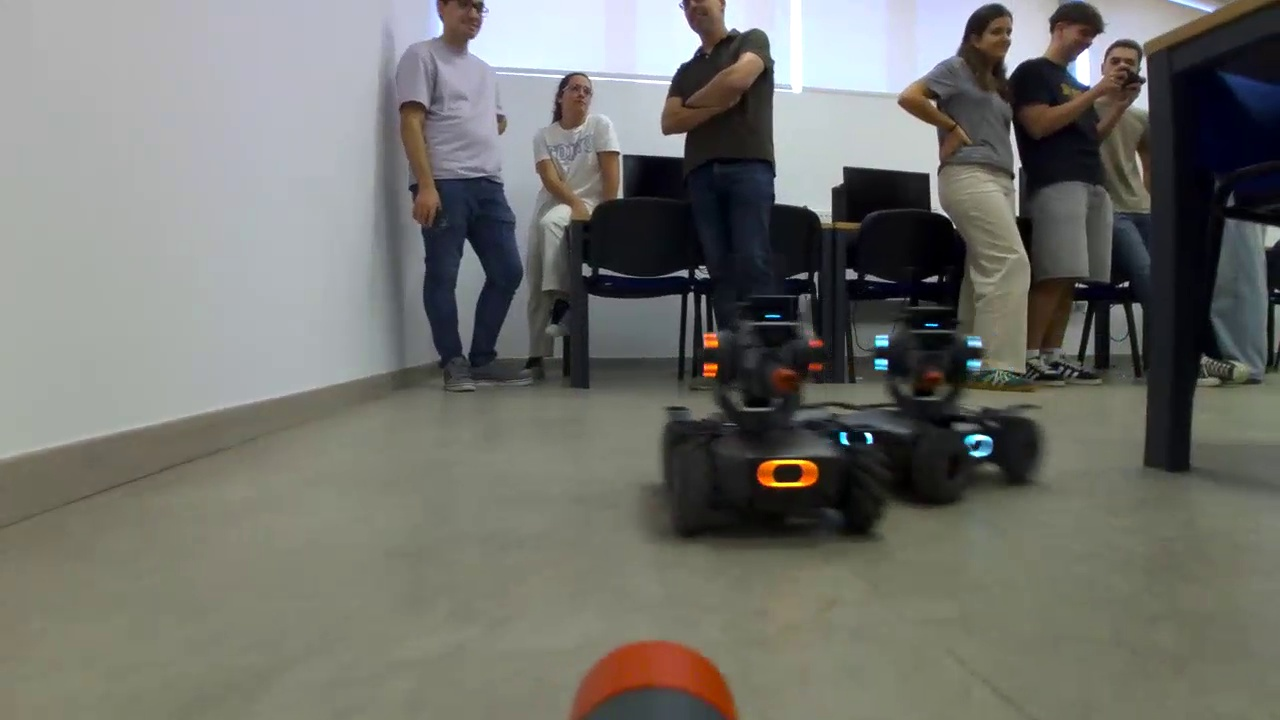robot: (662, 320, 890, 529), (842, 300, 1046, 511)
